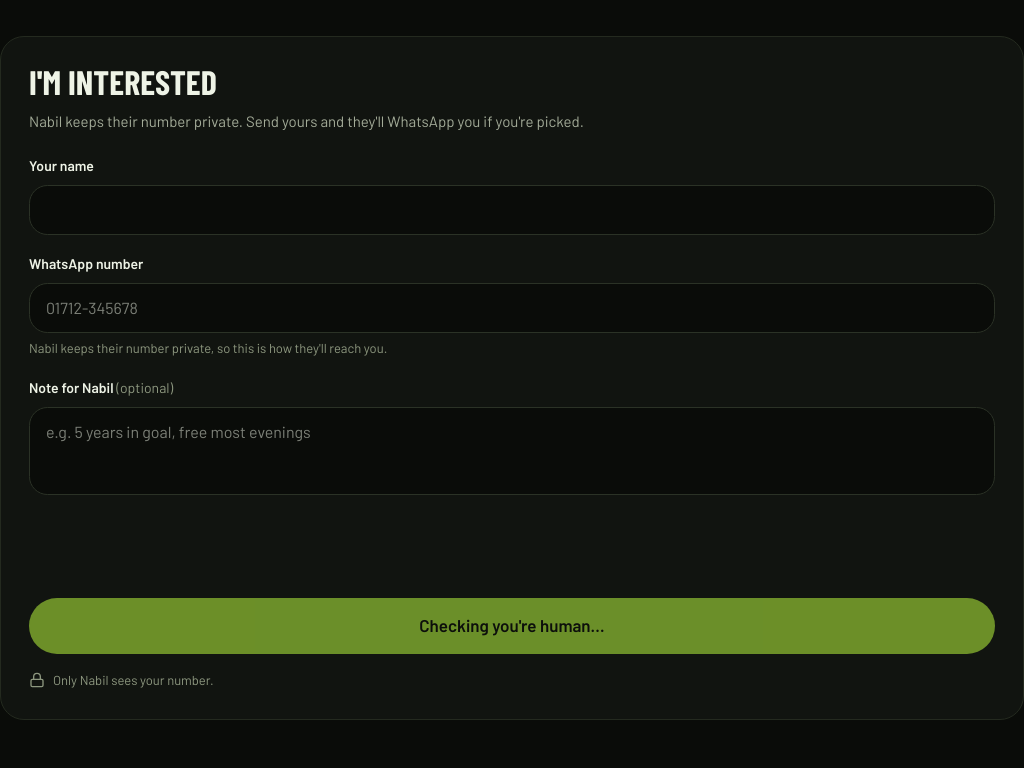
it: InterestForm › checks the fields before sending
Type "123" into the field labelled "WhatsApp number".
click(512, 308); type("123")  # box x1=29 y1=283 x2=995 y2=333
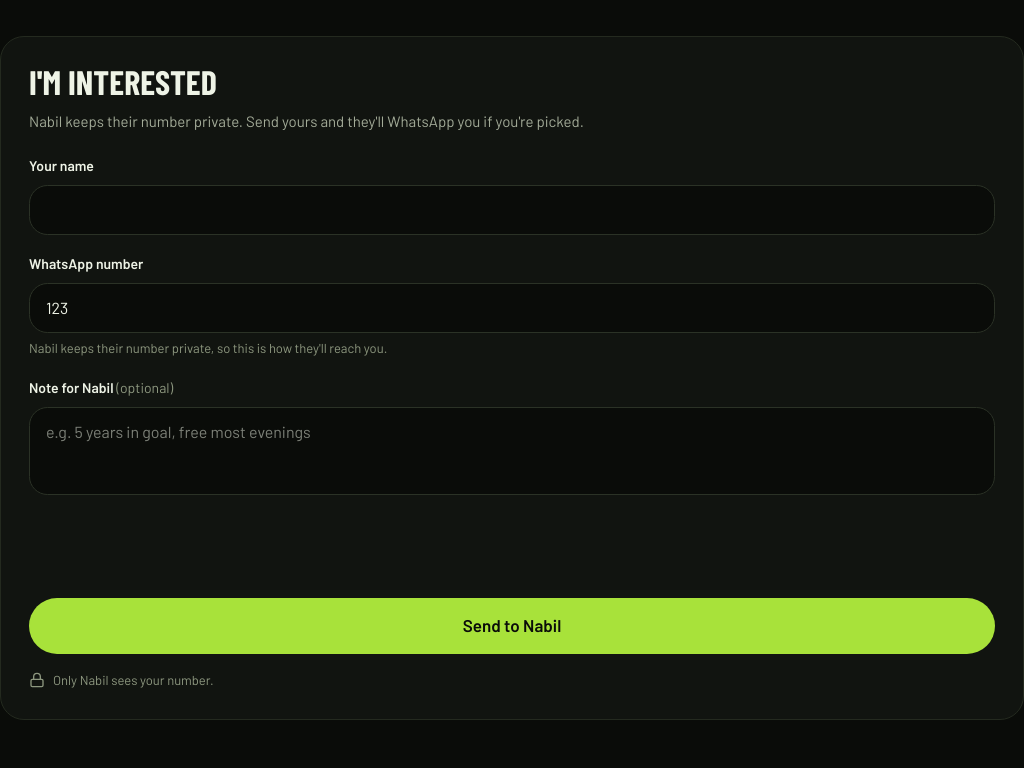
Click the button "Send to Nabil".
click(512, 626)  # box x1=29 y1=598 x2=995 y2=654
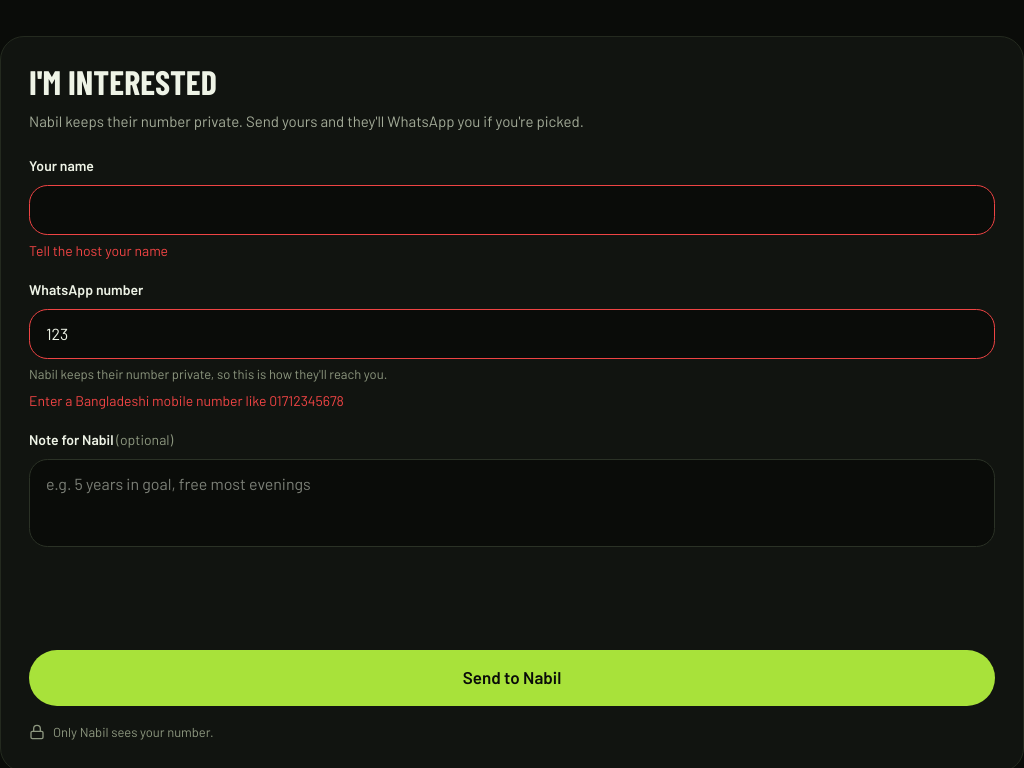
Check: the text "Tell the host your name" is shown, box x1=29 y1=242 x2=168 y2=259
Check: the text "Enter a Bangladeshi mobile number like 01712345678" is shown, box x1=29 y1=392 x2=344 y2=409
